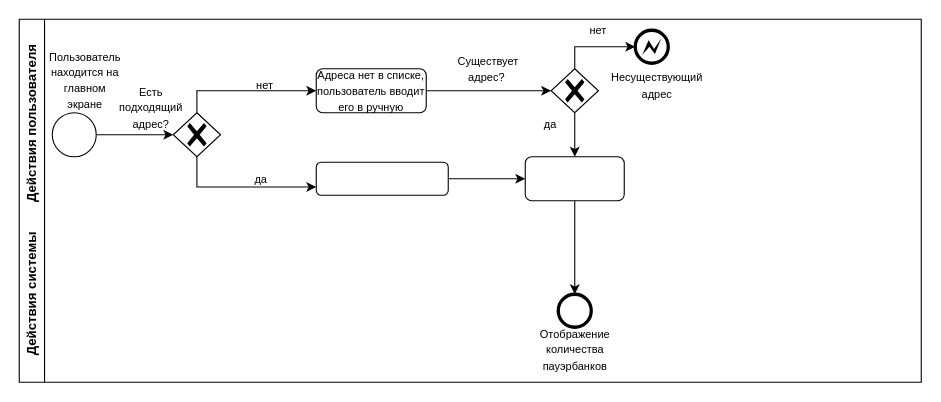
Some shapes in this 941 by 402 pixel diagram are drawn without their labels. The box of each missing label's shape, as (x1, y1, x2, y2) in pixels:
Адрес есть в списке: (315, 161, 448, 195)
Выбор адреса: (524, 156, 624, 201)
